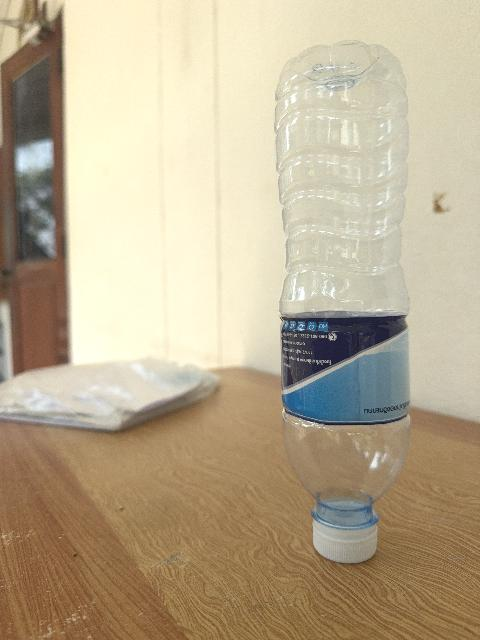bottle: (276, 42, 409, 562)
